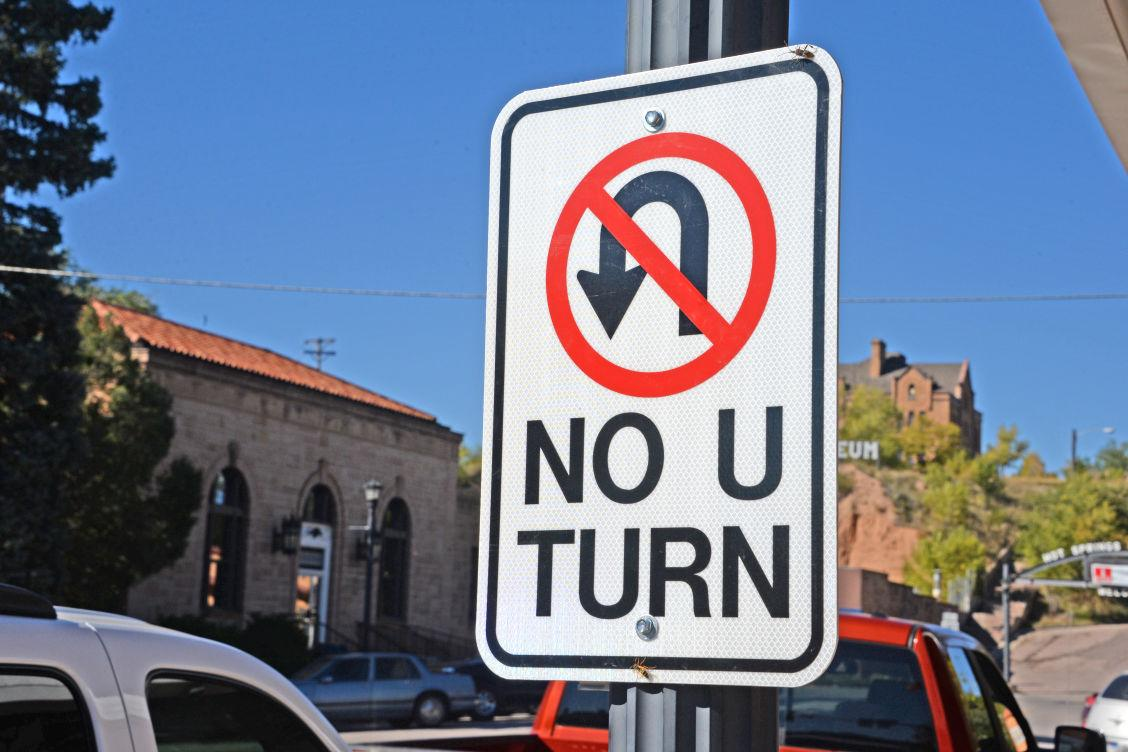no_u_turn: (544, 133, 778, 399)
